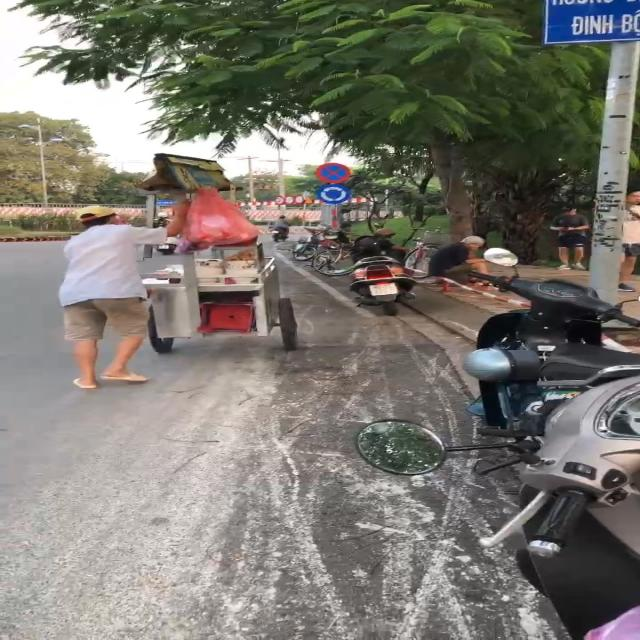Bien bao cam dung xe va do xe: (312, 159, 359, 184)
Bien bao noi giao nhau chay theo vong xuyen: (312, 183, 354, 204)
